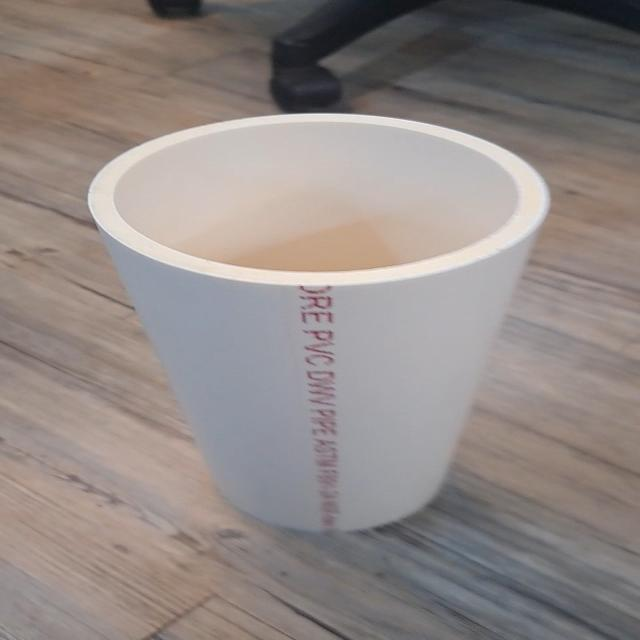CORAL: (84, 112, 570, 540)
